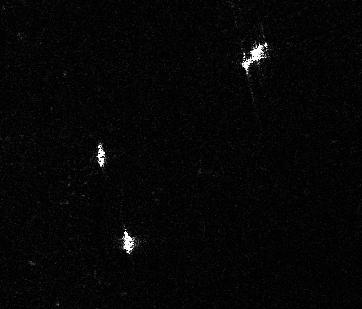ship: (240, 41, 268, 72), (121, 231, 137, 255), (96, 143, 106, 167)
